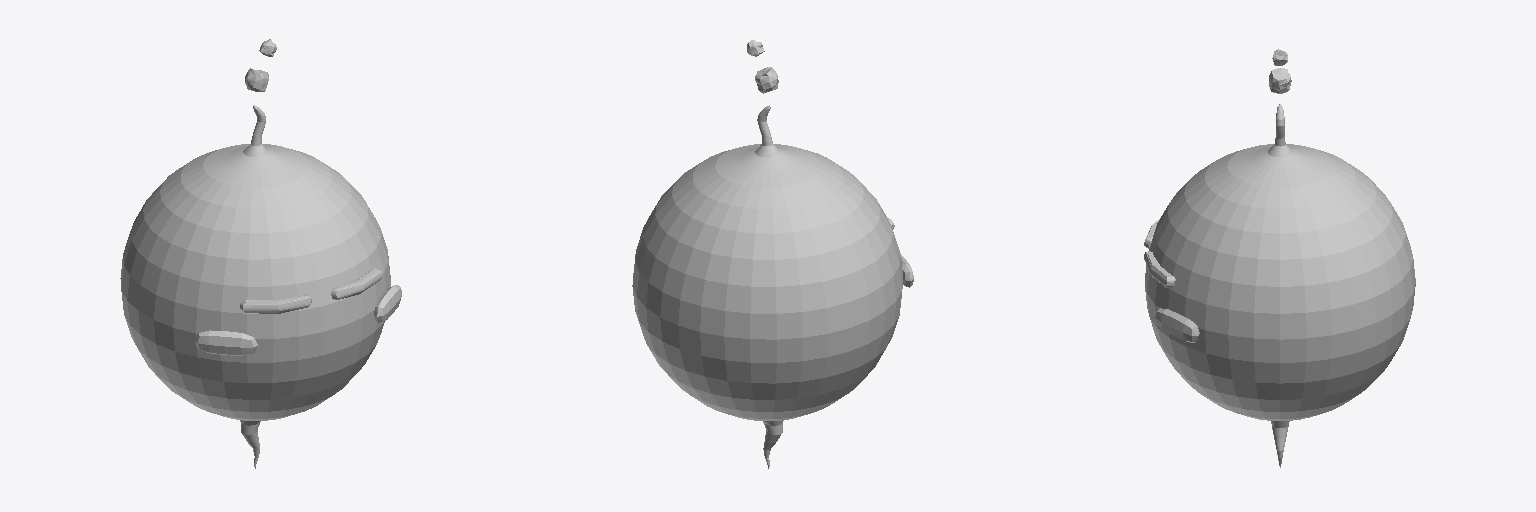
The model's file is OnlyHinokon.obj.
3 renders of one model, left to right at view 1: azimuth 30°, elevation 25°; view 2: azimuth 150°, elevation 25°; view 3: azimuth 270°, elevation 25°, orthographic.
Parts seen in each view (by area): view 1: hinokon; view 2: hinokon; view 3: hinokon.
Part boxes in pixels (x1,y1,x2,y2): hinokon: (120,39,401,468); hinokon: (632,40,913,468); hinokon: (1144,49,1415,467).
Size of the model in its own units: 0.1715 by 0.2967 by 0.1718.